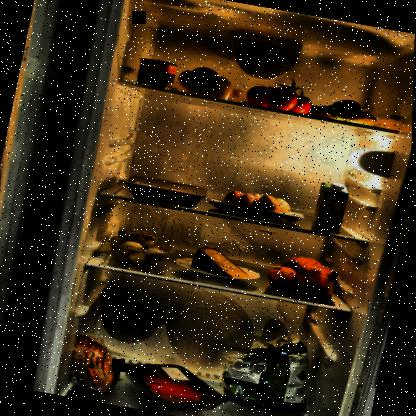banana: (297, 91, 383, 128)
beef: (113, 352, 239, 415)
cheese: (188, 244, 256, 282)
corn: (132, 54, 181, 92)
eggs: (219, 186, 295, 221)
heavy_cream: (312, 178, 351, 235)
mushrooms: (107, 225, 179, 271)
potato: (173, 62, 251, 104)
spinach: (216, 328, 326, 415)
sweet_potato: (262, 249, 349, 304)
tomato: (245, 70, 320, 115)
